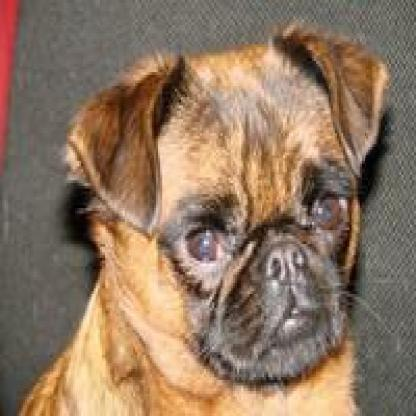Brabancon_griffon: (17, 22, 387, 410)
